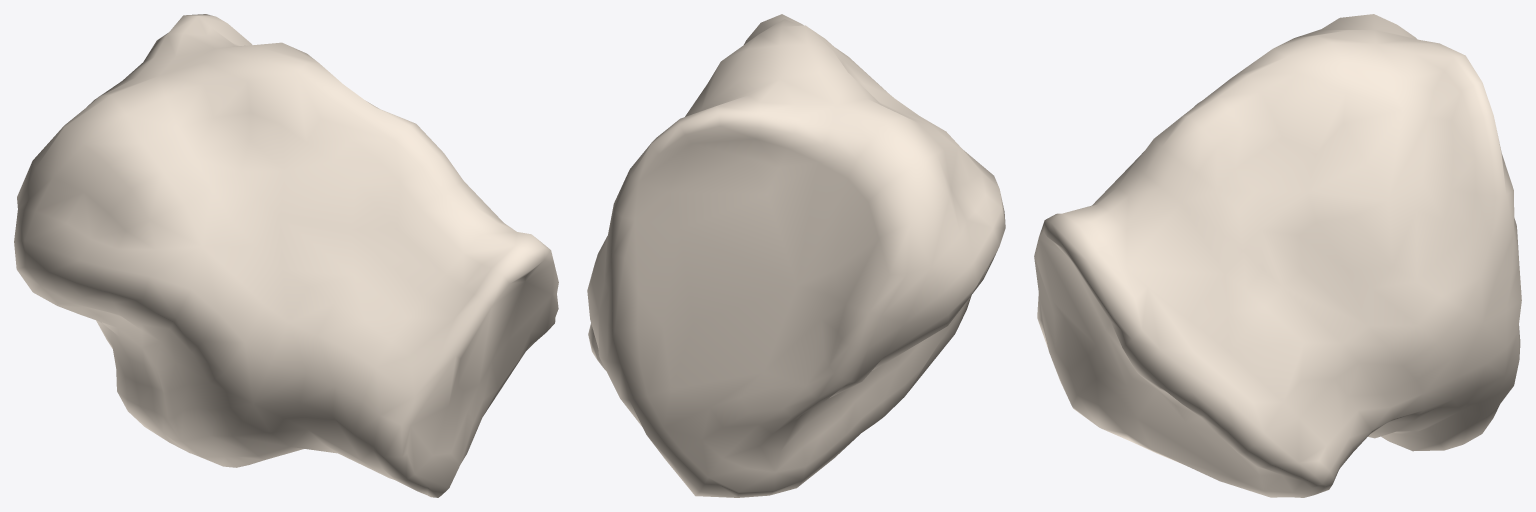
The model's file is left_cuboid.glb.
3 renders of one model, left to right at view 1: azimuth 30°, elevation 25°; view 2: azimuth 150°, elevation 25°; view 3: azimuth 270°, elevation 25°, orthographic. The views are drawn at different scales.
Visible parts, largest first — view 1: Cuboid bone.r; view 2: Cuboid bone.r; view 3: Cuboid bone.r.
Boxes of the visible parts, box(x1,y1,x2,y2) form: Cuboid bone.r: box(14, 14, 558, 497); Cuboid bone.r: box(587, 14, 1005, 497); Cuboid bone.r: box(1034, 14, 1521, 497).
Size of the model in its own units: 0.0338 by 0.0306 by 0.0338.
